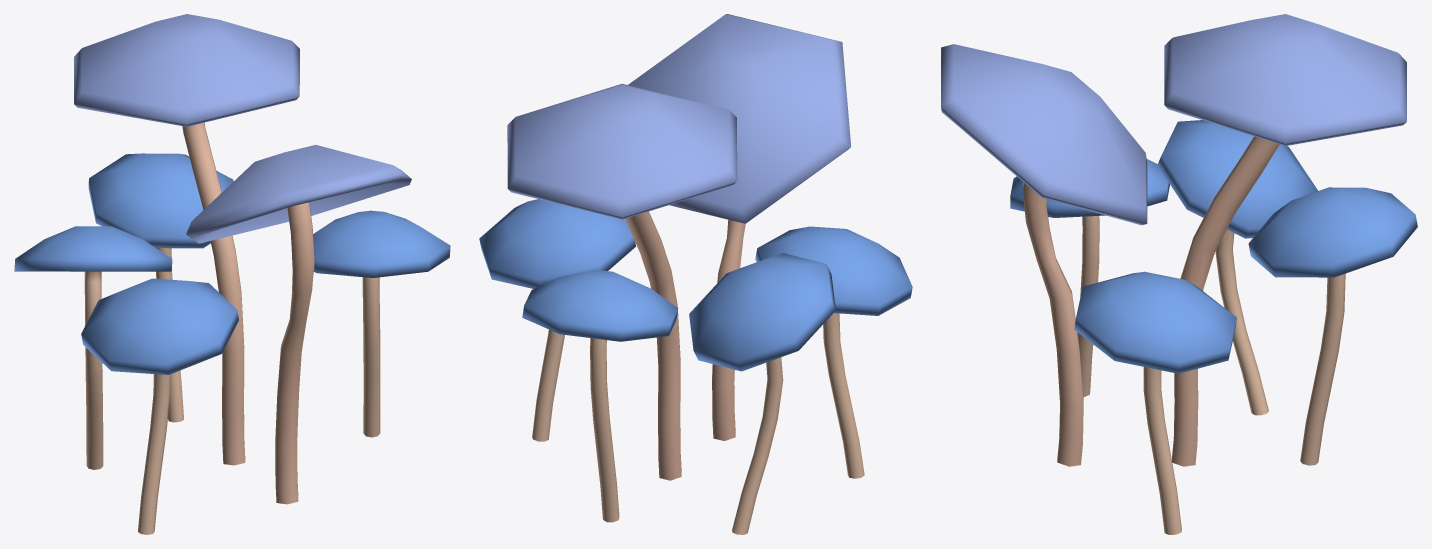
The model's file is Mushroom2.fbx.
3 views of the same model, side by side, from view 1: azimuth 30°, elevation 25°; view 2: azimuth 150°, elevation 25°; view 3: azimuth 270°, elevation 25° (orthographic). The views are drawn at different scales.
Parts seen in each view (by area): view 1: Line.001, Line.004, Line.005, Line.006, Line.002, Line.003; view 2: Line.001, Line.004, Line.003, Line.006, Line.002, Line.005; view 3: Line.001, Line.004, Line.006, Line.002, Line.003, Line.005.
Boxes of the visible parts, x1,y1,x2,y2 form: Line.001: [74, 14, 299, 465]; Line.004: [186, 144, 411, 504]; Line.005: [81, 278, 238, 534]; Line.006: [313, 210, 450, 437]; Line.002: [88, 153, 233, 422]; Line.003: [14, 226, 172, 469]; Line.001: [507, 83, 737, 480]; Line.004: [628, 14, 851, 440]; Line.003: [689, 253, 835, 534]; Line.006: [479, 199, 635, 441]; Line.002: [522, 270, 678, 522]; Line.005: [755, 226, 912, 478]; Line.001: [1164, 14, 1406, 466]; Line.004: [941, 44, 1147, 466]; Line.006: [1074, 271, 1236, 534]; Line.002: [1248, 187, 1417, 465]; Line.003: [1157, 120, 1317, 415]; Line.005: [1010, 159, 1169, 396].
Bounding box in the file's own units: 203 × 213 × 209.
